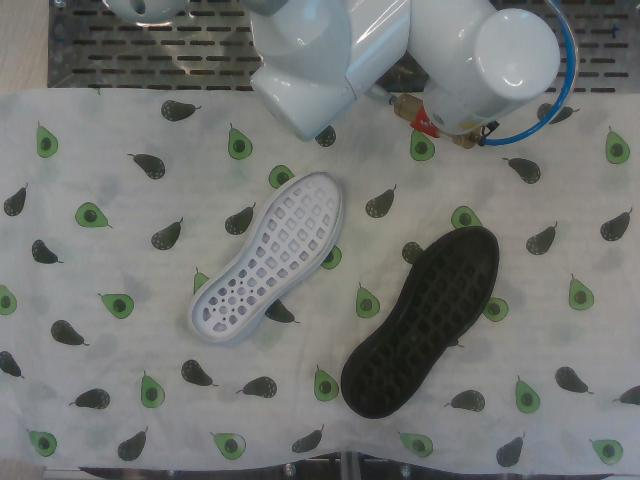shoes: (350, 228, 497, 416), (192, 171, 341, 341)
